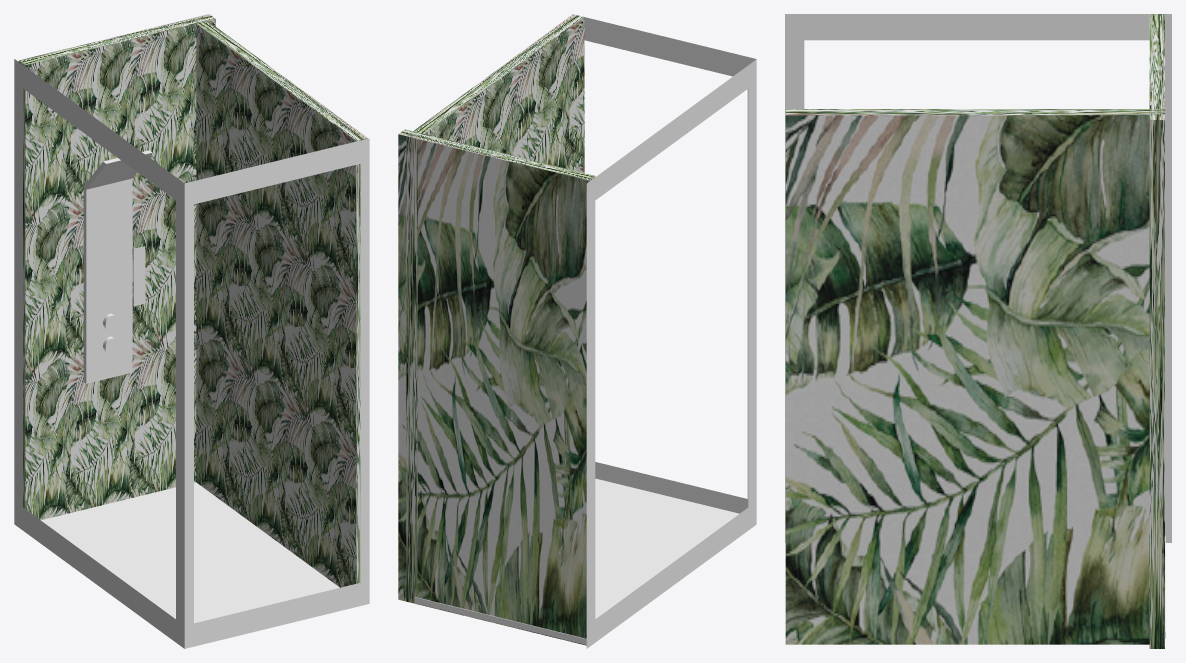
Rendered from kinewall.glb.
3 renders of one model, left to right at view 1: azimuth 30°, elevation 25°; view 2: azimuth 150°, elevation 25°; view 3: azimuth 270°, elevation 25°, orthographic. The views are drawn at different scales.
Visible parts, largest first — view 1: Cube.021, kinewall; view 2: Cube.021, kinewall; view 3: Cube.021, kinewall.
Boxes of the visible parts, x1,y1,x2,y2 form: Cube.021: (18,14,367,587); kinewall: (14,59,369,648); Cube.021: (398,14,595,645); kinewall: (415,14,756,648); Cube.021: (785,14,1164,648); kinewall: (785,14,1171,638).
Size of the model in its own units: 3.32 by 7.71 by 5.1.
3 materials, 1 textured.
